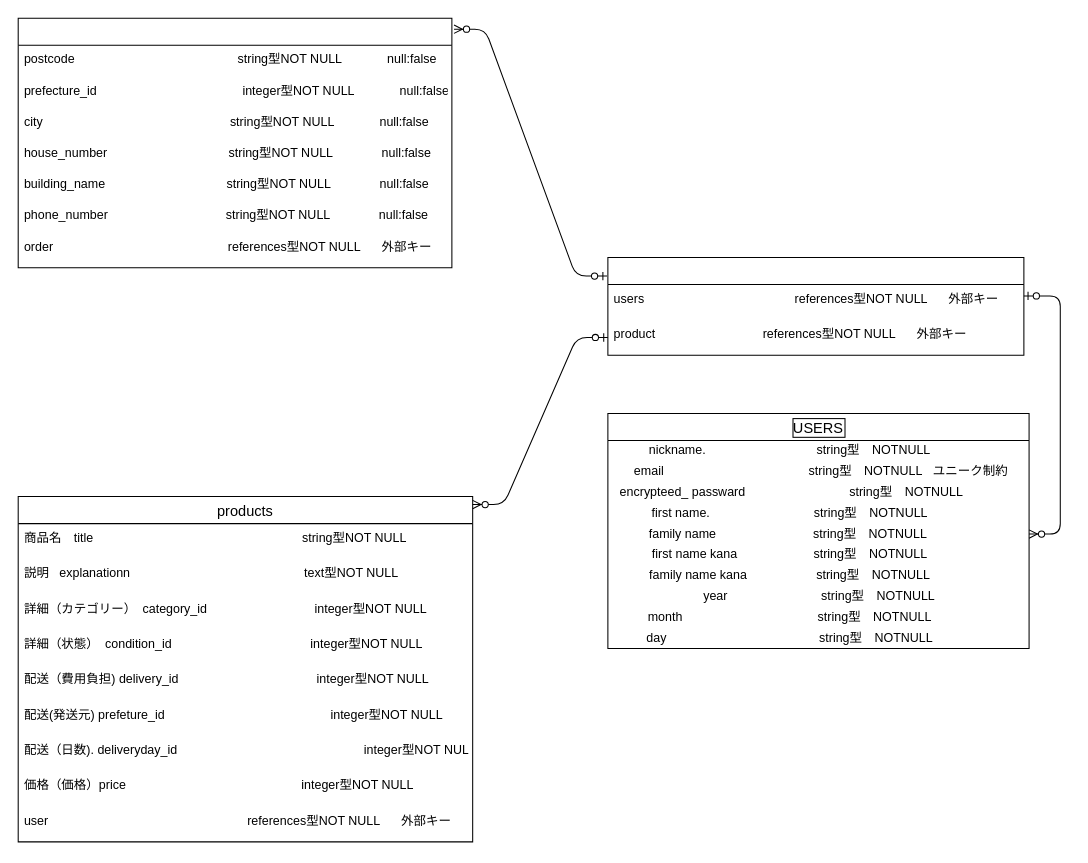
Some shapes in this 1088 by 863 pixel diagram are drawn without their labels. The shapes that lost their labels are listed below. From the top down, each one's box as (x1, y1, x2, y2) in pixels, then its label:
(17, 17, 452, 268): Addresses
(607, 256, 1024, 355): orders
